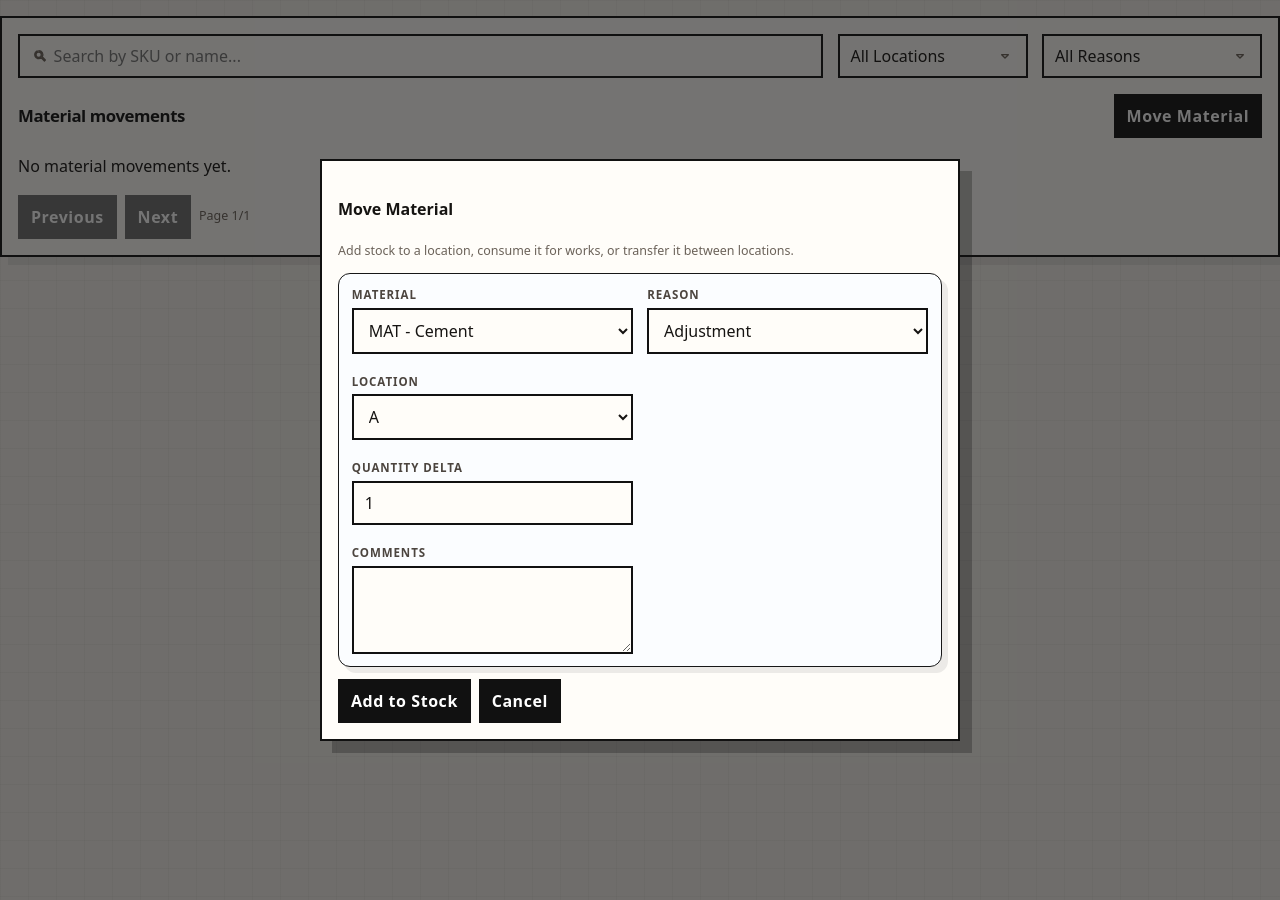
stock movement form errors › uses a safe fallback for an unexpected rejection value
Click the button "Add to Stock" at (404, 701), box [338, 679, 471, 723]
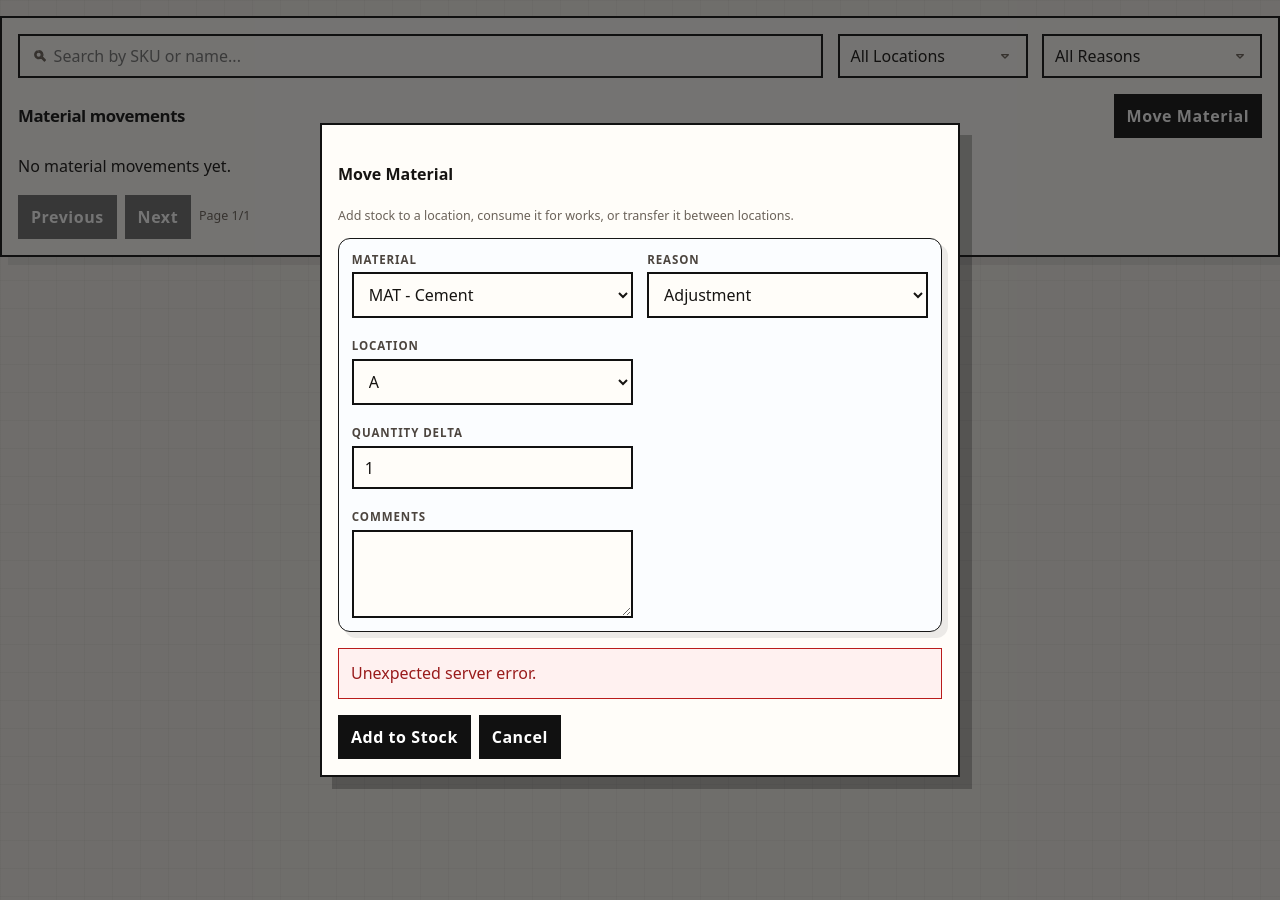
Now the message reads "Unexpected server error.", box [351, 662, 536, 684]
